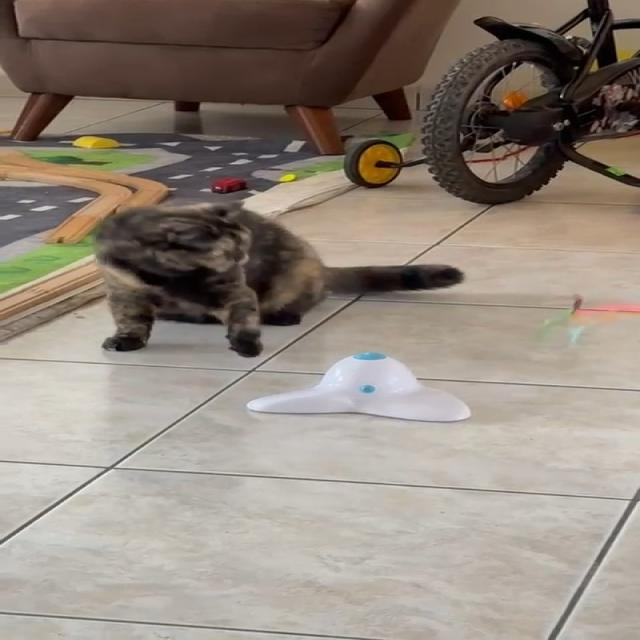authorized: (92, 198, 464, 358)
